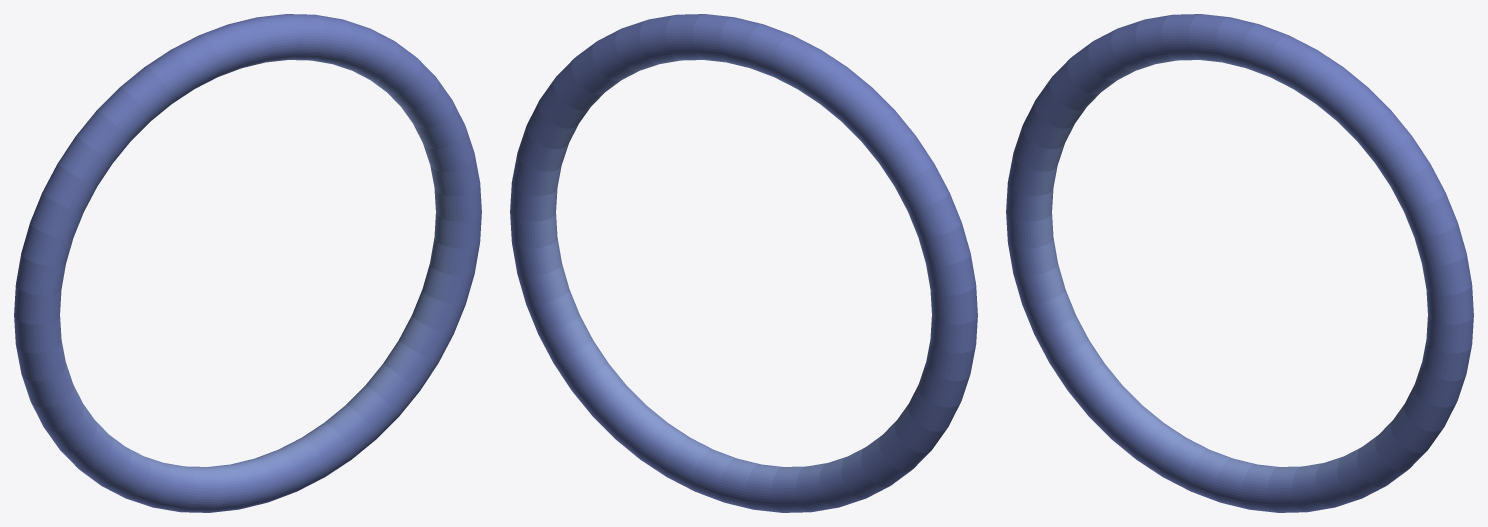
3 renders of one model, left to right at view 1: azimuth 30°, elevation 25°; view 2: azimuth 150°, elevation 25°; view 3: azimuth 330°, elevation 25°, orthographic.
Visible parts, largest first — view 1: world; view 2: world; view 3: world.
Part boxes in pixels (left/top/right/bottom): world: left=14, top=14, right=481, bottom=512; world: left=510, top=14, right=977, bottom=512; world: left=1006, top=14, right=1473, bottom=512.
Size of the model in its own units: 26.27 by 26.21 by 2.26.
